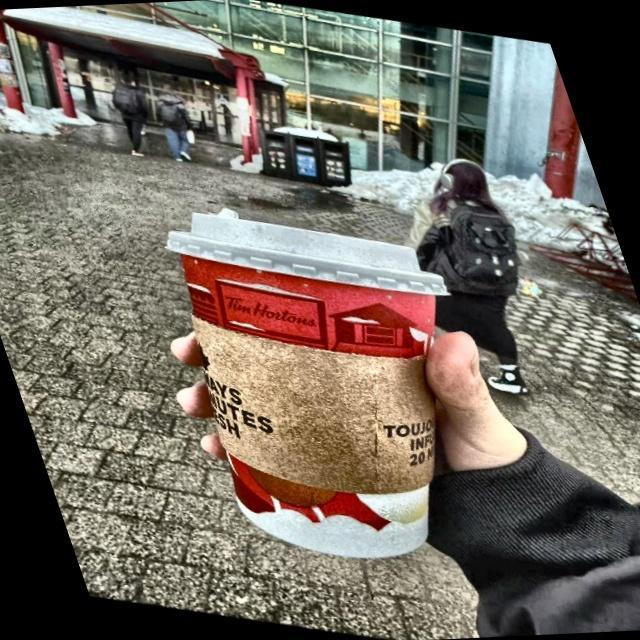timmies: (160, 182, 454, 567)
